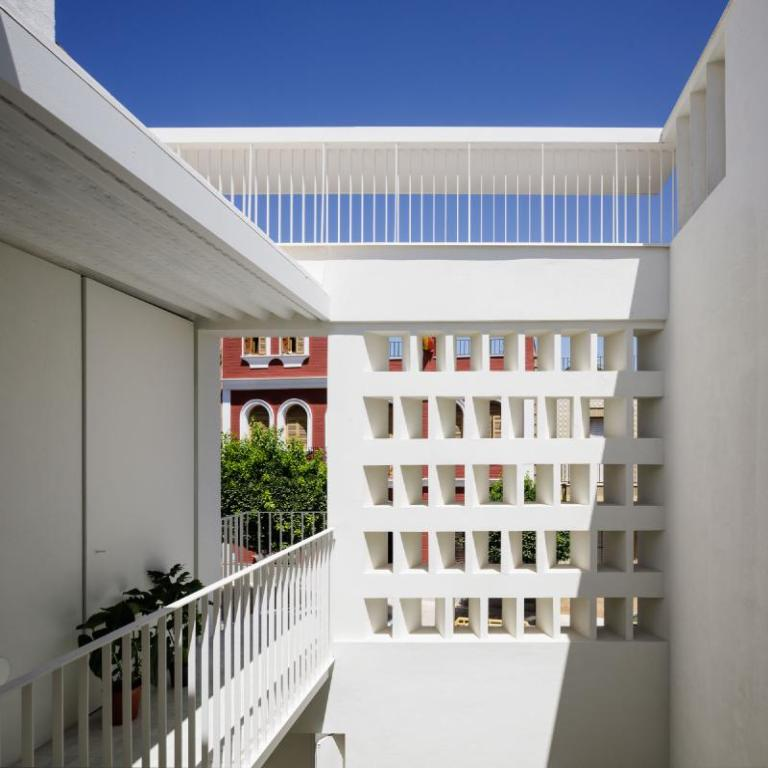white-walls: (334, 223, 761, 753)
